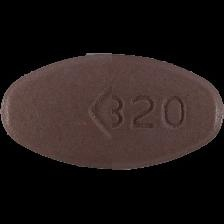0591-2170: (0, 0, 224, 224)
